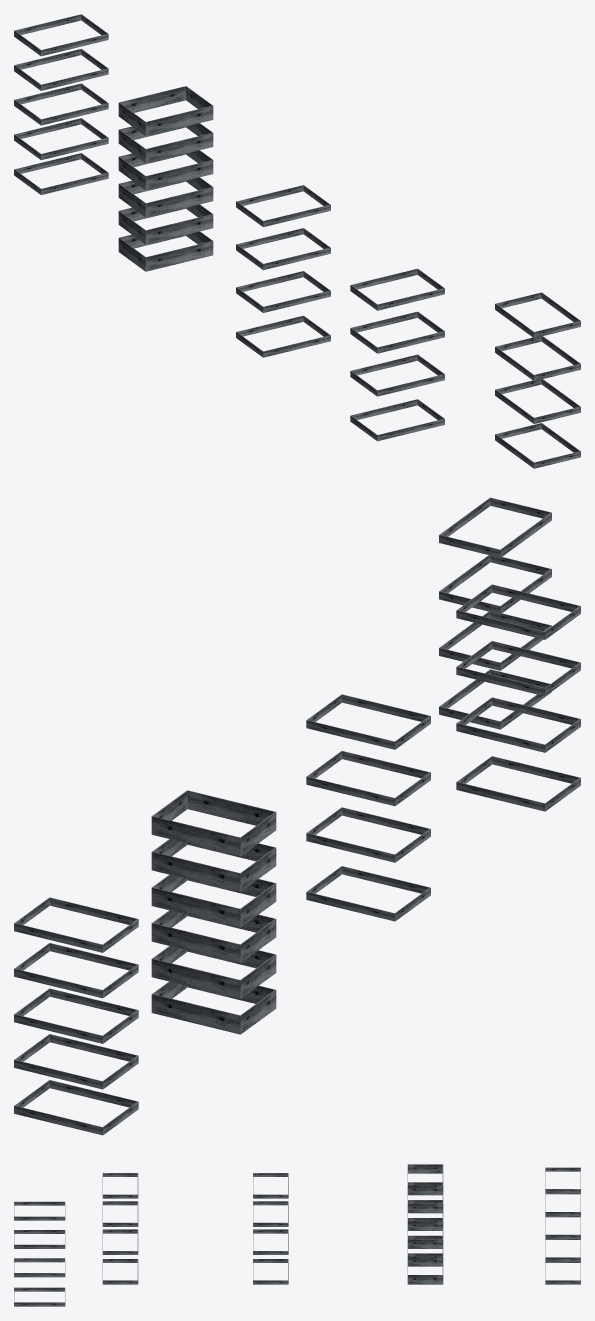
The model's file is store_60.obj.
The picture shows the model from 3 angles, top to bottom: view 1: azimuth 30°, elevation 25°; view 2: azimuth 150°, elevation 25°; view 3: azimuth 270°, elevation 25°; orthographic projection. The views are drawn at different scales.
Bounding box in the file's own units: 56.17 × 58.89 × 307.
